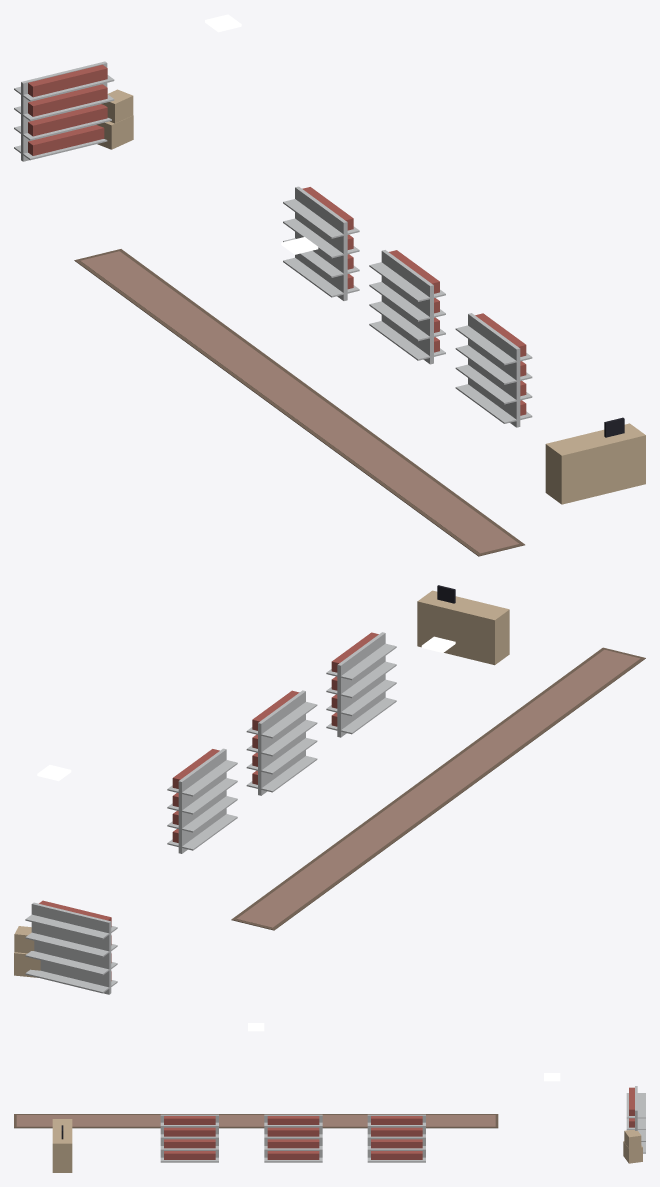
Rendered from fine-s0.glb.
3 renders of one model, top to bottom at view 1: azimuth 30°, elevation 25°; view 2: azimuth 150°, elevation 25°; view 3: azimuth 270°, elevation 25°, orthographic. The views are drawn at different scales.
Visible parts, largest first — view 1: soft-s0, shelving.000, shop-counter.000, shelf.002, shelf.001, shelf.000, cardboard-box.000; view 2: soft-s0, shelving.000, shop-counter.000, shelf.002, shelf.000, shelf.001, cardboard-box.000; view 3: soft-s0, shelf.001, shelf.000, shelf.002, shop-counter.000, shelving.000, cardboard-box.000.
Part boxes in pixels (x1,y1,x2,y2): soft-s0: (74, 249, 524, 556); shelving.000: (14, 61, 114, 161); shop-counter.000: (545, 417, 645, 504); shelf.002: (455, 313, 532, 427); shelf.001: (369, 250, 445, 364); shelf.000: (283, 186, 359, 300); cardboard-box.000: (96, 89, 133, 149); soft-s0: (231, 647, 645, 930); shelving.000: (25, 900, 117, 994); shop-counter.000: (417, 585, 509, 665); shelf.002: (326, 632, 396, 737); shelf.000: (167, 748, 237, 853); shelf.001: (246, 690, 317, 795); cardboard-box.000: (14, 926, 40, 977); soft-s0: (14, 1114, 498, 1128); shelf.001: (264, 1114, 322, 1162); shelf.000: (367, 1114, 425, 1162); shelf.002: (160, 1114, 218, 1162); shop-counter.000: (52, 1119, 72, 1172); shelving.000: (626, 1086, 645, 1153); cardboard-box.000: (623, 1130, 642, 1163).
Size of the model in its own units: 4.4 by 3.24 by 19.54.
